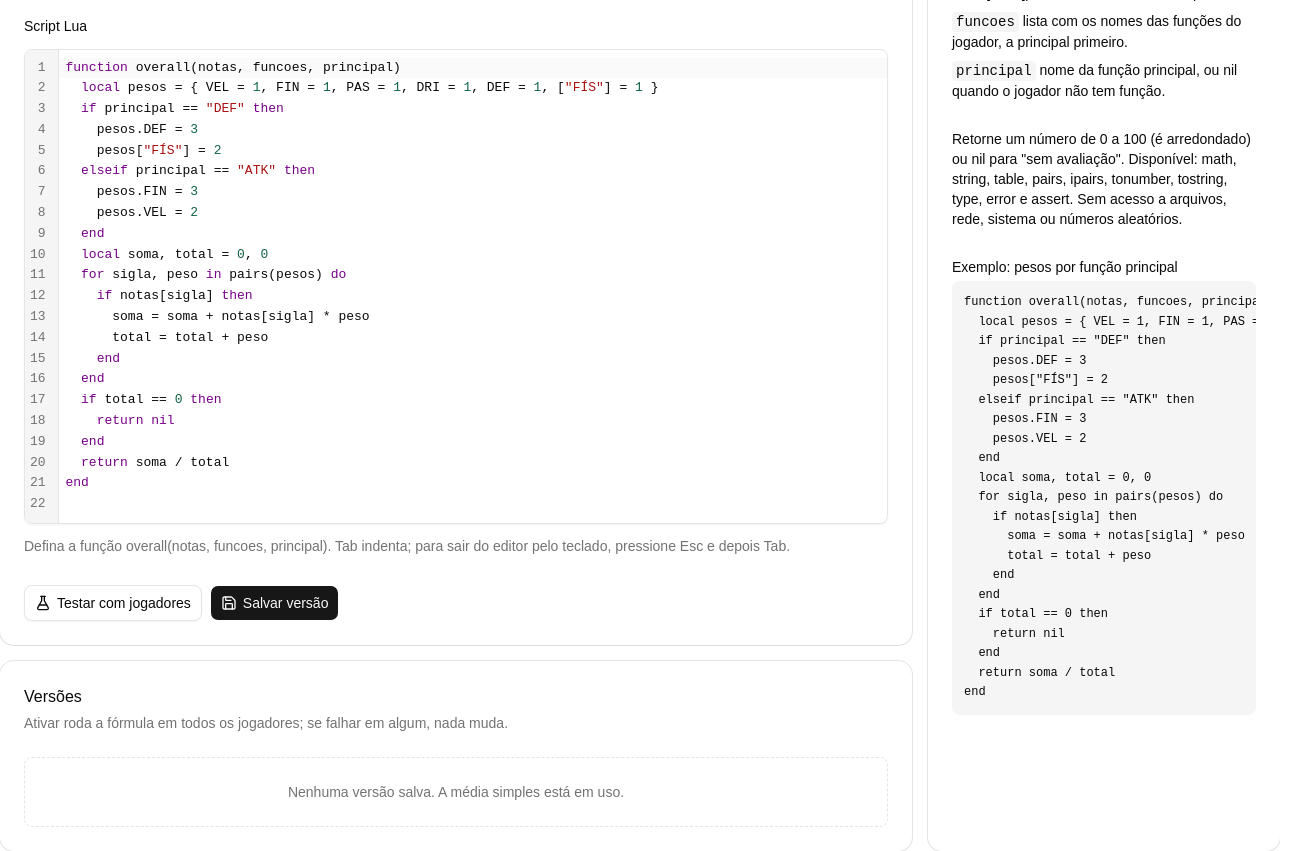
Test: FormulaPage › testa o script e mostra o resultado por jogador
(page scrolled)
Click the button "Testar com jogadores": (113,603) [24,585,202,621]
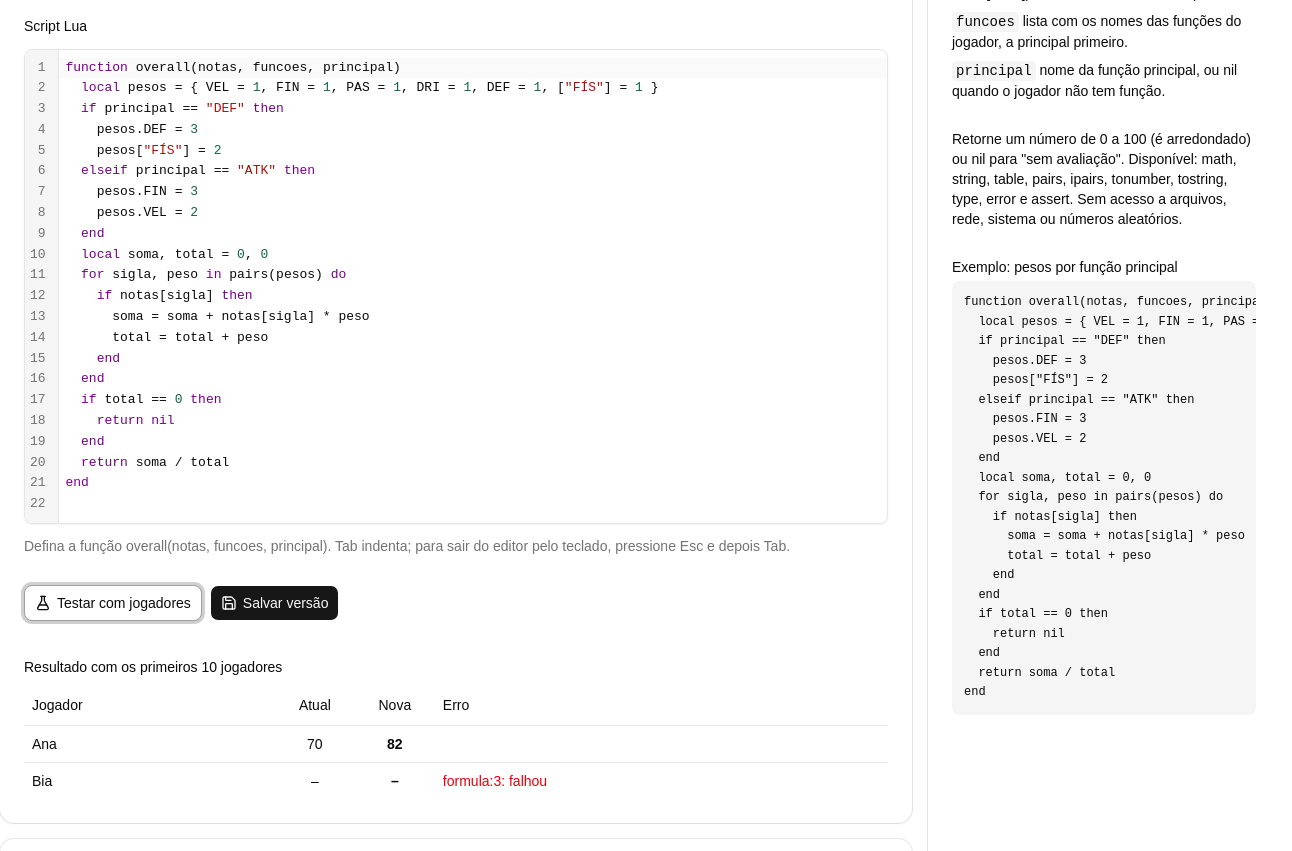
Check: the text "82" is shown, box [355,725,435,762]
Check: the text "formula:3: falhou" is shown, box [435,762,888,798]
